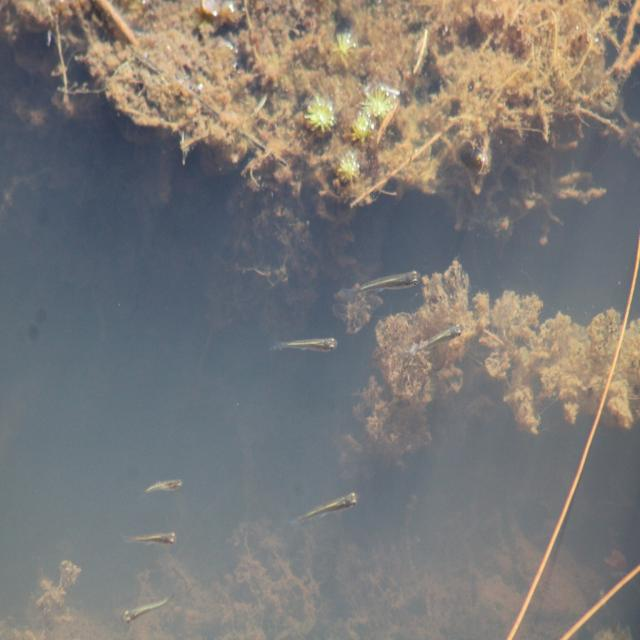Sivrisinek Baligi: (296, 480, 357, 540), (360, 266, 426, 304), (121, 587, 181, 627), (410, 317, 463, 360), (269, 332, 338, 364), (116, 522, 182, 553), (145, 460, 187, 505)
